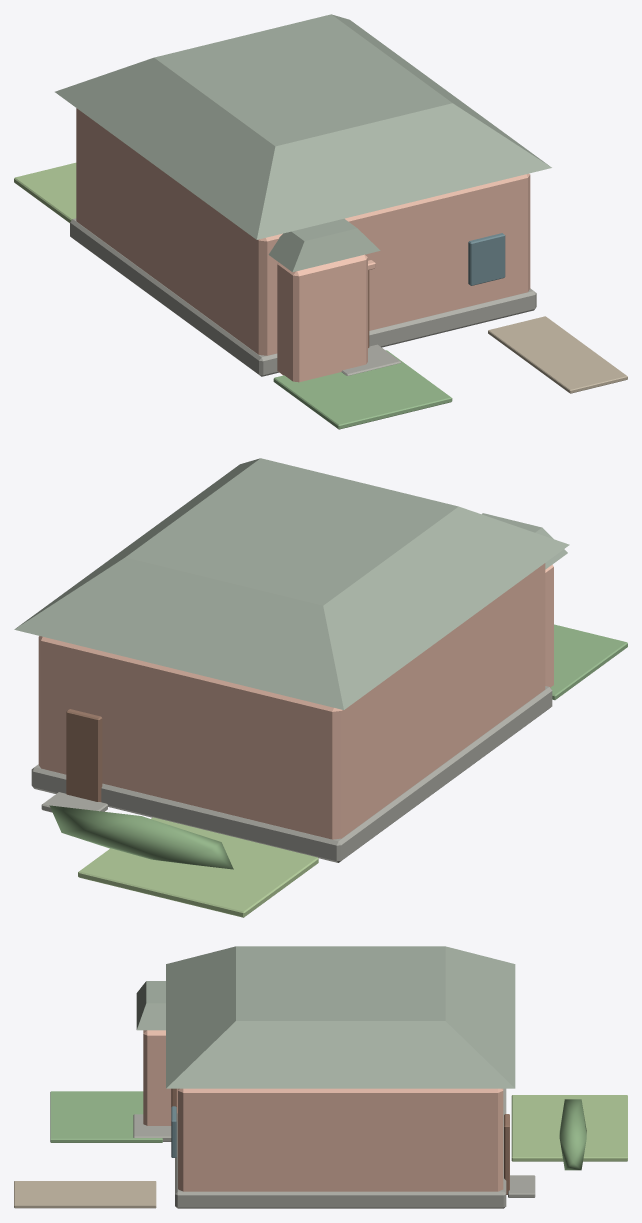
The model's file is coastal_orchard_house_v1.lod1.glb.
The picture shows the model from 3 angles, top to bottom: view 1: azimuth 30°, elevation 25°; view 2: azimuth 150°, elevation 25°; view 3: azimuth 270°, elevation 25°; orthographic projection. The views are drawn at different scales.
Visible parts, largest first — view 1: MainRoof, MainBody, OrchardBay, StonePlinth, FrontGreenVerge, Driveway, OrchardBayRoof, RearYardPatch, FrontWindow1, PublicStep; view 2: MainRoof, MainBody, StonePlinth, RearYardPatch, RearHedge, ServiceDoor, FrontGreenVerge, OrchardBay, ServiceStep; view 3: MainRoof, MainBody, RearYardPatch, StonePlinth, FrontGreenVerge, Driveway, OrchardBay, RearHedge, OrchardBayRoof, PublicStep, ServiceStep, ServiceDoor.
Boxes of the visible parts, x1,y1,x2,y2 form: MainRoof: (55, 14, 551, 239); MainBody: (76, 108, 530, 355); OrchardBay: (277, 254, 367, 382); StonePlinth: (70, 218, 536, 376); FrontGreenVerge: (273, 350, 452, 429); Driveway: (488, 316, 627, 393); OrchardBayRoof: (268, 218, 380, 272); RearYardPatch: (14, 162, 76, 222); FrontWindow1: (468, 233, 505, 285); PublicStep: (341, 344, 401, 375); MainRoof: (14, 458, 569, 709); MainBody: (38, 563, 545, 839); StonePlinth: (31, 686, 552, 862); RearYardPatch: (78, 817, 318, 917); RearHedge: (49, 805, 233, 869); ServiceDoor: (66, 709, 102, 801); FrontGreenVerge: (550, 624, 627, 700); OrchardBay: (545, 564, 553, 687); ServiceStep: (41, 792, 107, 812); MainRoof: (166, 946, 515, 1088); MainBody: (178, 1088, 503, 1191); RearYardPatch: (511, 1095, 627, 1161); StonePlinth: (175, 1088, 506, 1208); FrontGreenVerge: (50, 1091, 162, 1142); Driveway: (14, 1181, 156, 1208); OrchardBay: (143, 1030, 177, 1125); RearHedge: (559, 1099, 586, 1170); OrchardBayRoof: (136, 981, 165, 1030); PublicStep: (133, 1114, 171, 1141); ServiceStep: (508, 1175, 535, 1197); ServiceDoor: (504, 1114, 509, 1194).
Size of the model in its own units: 8.87 by 5.57 by 18.49.
